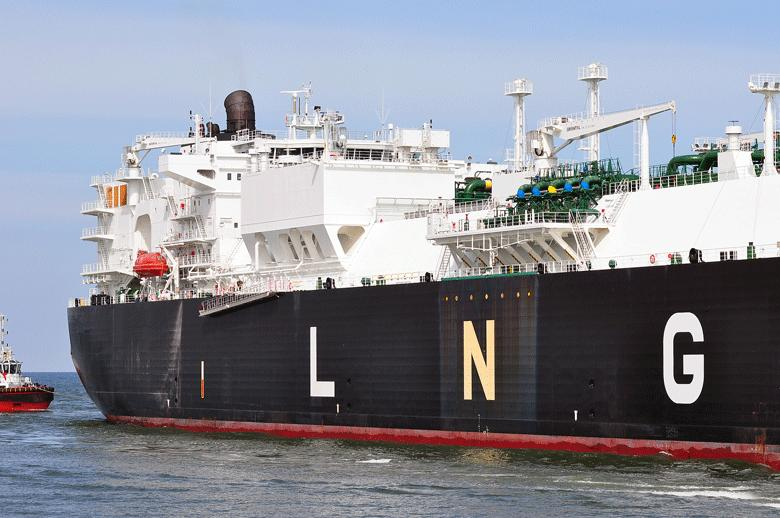Cargoship: (64, 59, 780, 462)
otherboat: (1, 324, 61, 416)
